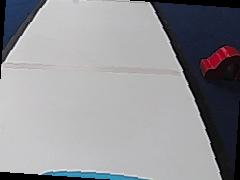Tracktor: (199, 43, 239, 80)
